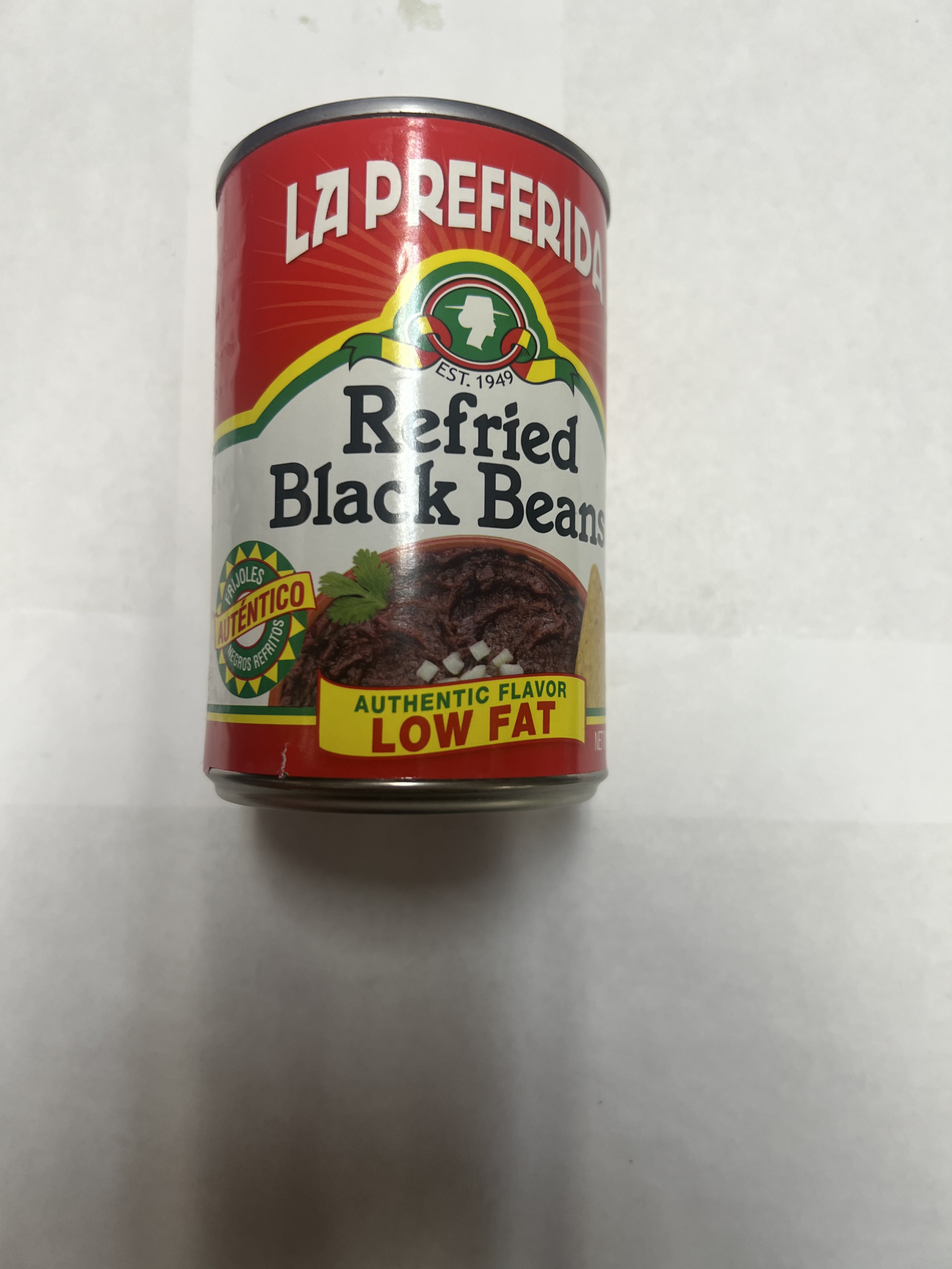packaged: (198, 90, 612, 823)
